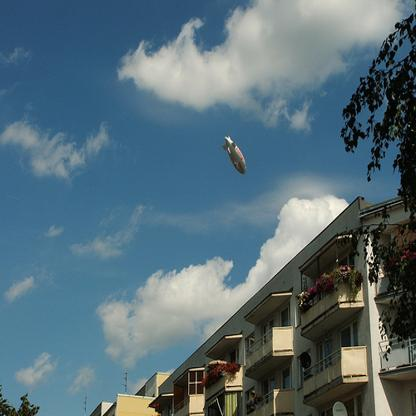Airship: (218, 134, 254, 176)
